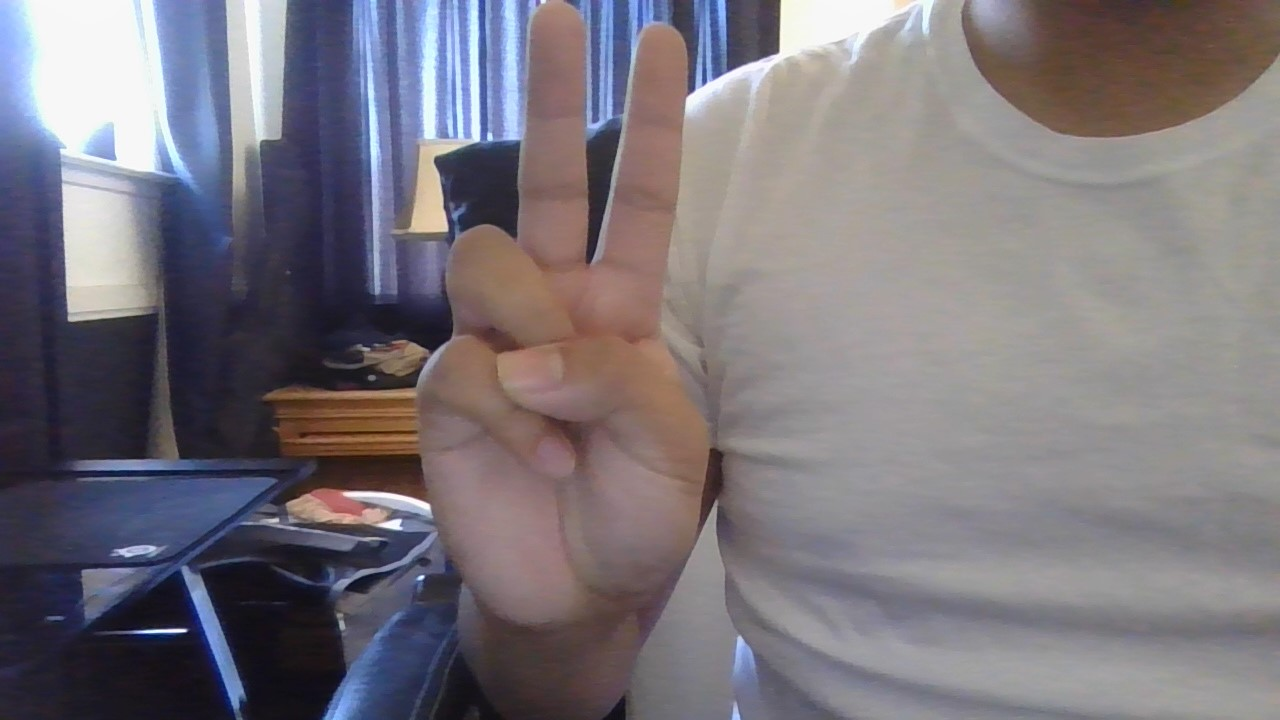v: (405, 1, 760, 642)
